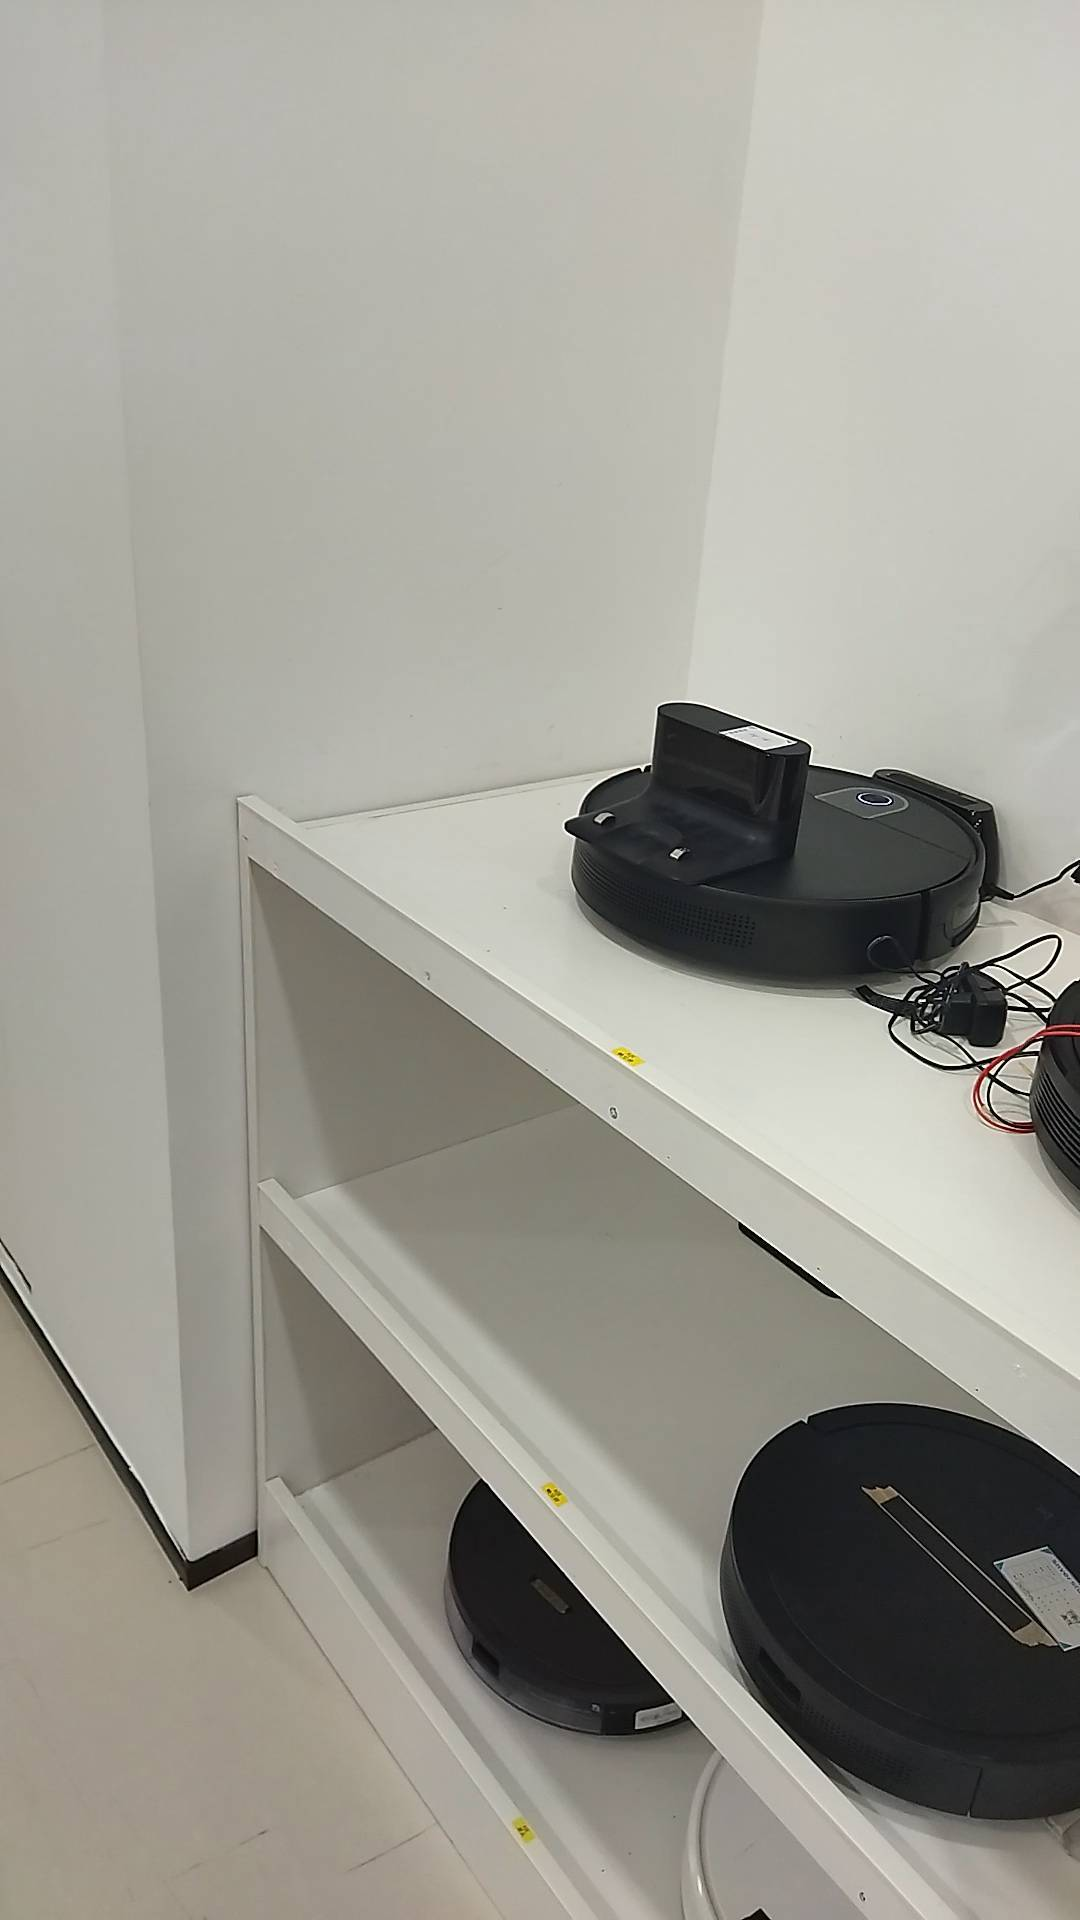recharge seat: (563, 703, 811, 884)
